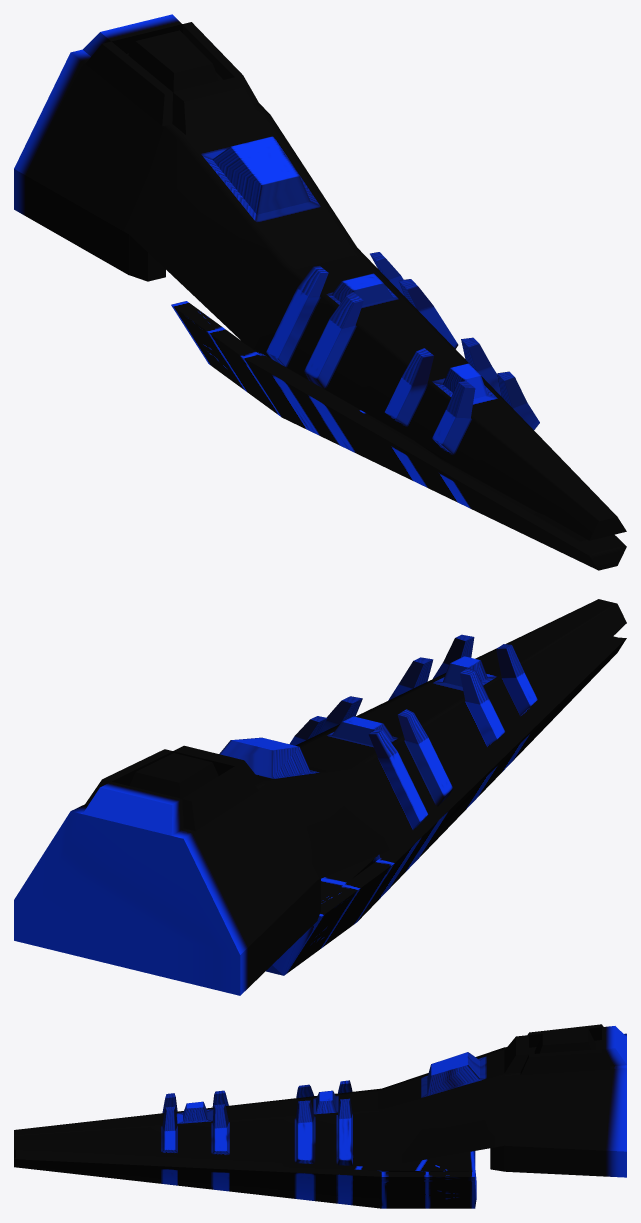
Rendered from Cañon 2.fbx.
The picture shows the model from 3 angles, top to bottom: view 1: azimuth 30°, elevation 25°; view 2: azimuth 150°, elevation 25°; view 3: azimuth 270°, elevation 25°; orthographic projection. The views are drawn at different scales.
Parts seen in each view (by area): view 1: pCone1, pCone2; view 2: pCone1, pCone2; view 3: pCone1, pCone2.
Boxes of the visible parts, x1=… form: pCone1: x1=14, y1=14, x2=626, y2=540; pCone2: x1=171, y1=301, x2=626, y2=570; pCone1: x1=14, y1=599, x2=626, y2=995; pCone2: x1=266, y1=636, x2=626, y2=975; pCone1: x1=14, y1=1024, x2=626, y2=1177; pCone2: x1=14, y1=1149, x2=476, y2=1208.
Size of the model in its own units: 2 by 2.15 by 7.37.
